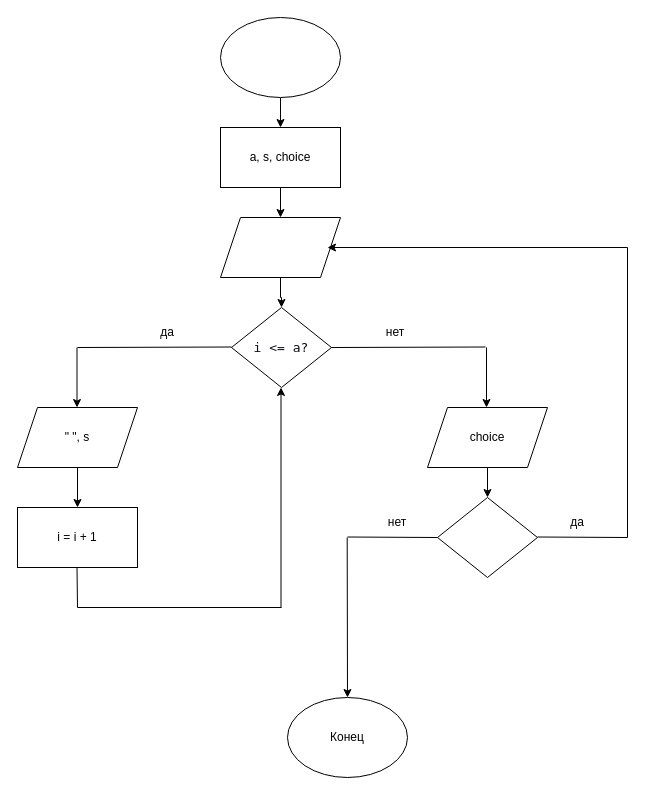
The diagram is 653 pixels wide and 795 high, and some of its shapes have lost their labels. Each missing label, with the centre of its shape:
"a, s" goes at (x=280, y=247).
"choice == '1'?" goes at (x=487, y=537).
"Начало" goes at (x=280, y=57).
